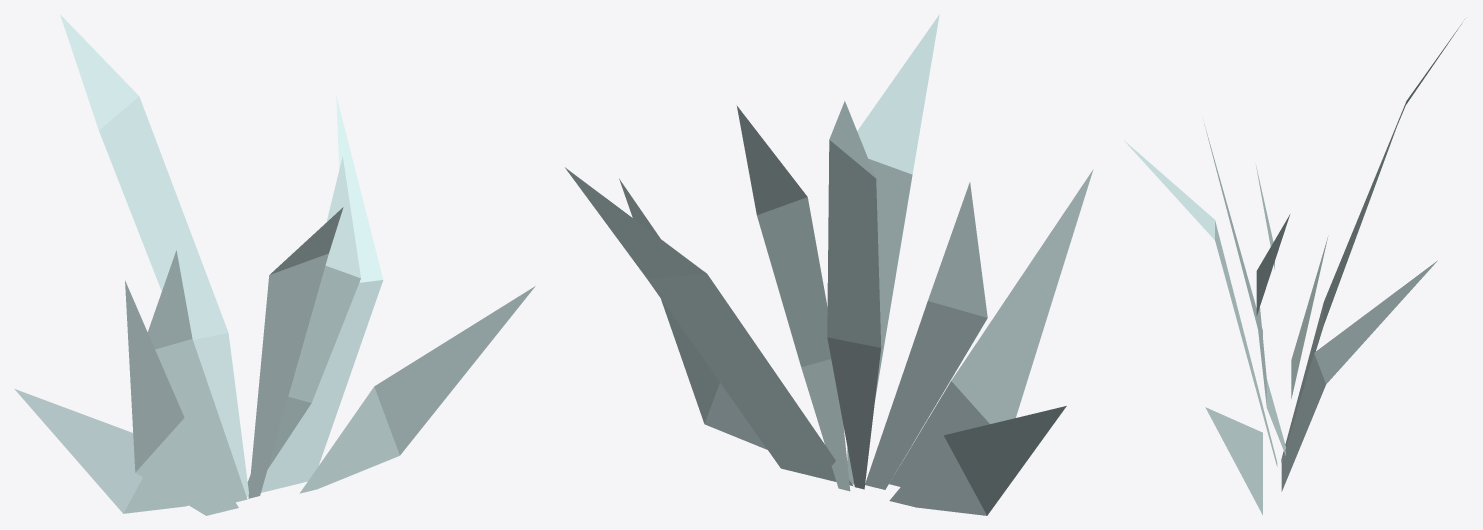
The model's file is grass-tall_white.glb.
3 views of the same model, side by side, from view 1: azimuth 30°, elevation 25°; view 2: azimuth 150°, elevation 25°; view 3: azimuth 270°, elevation 25° (orthographic). The views are drawn at different scales.
Parts seen in each view (by area): view 1: grass-tall_winter; view 2: grass-tall_winter; view 3: grass-tall_winter.
Part boxes in pixels (x1=…): grass-tall_winter: x1=14, y1=14, x2=535, y2=515; grass-tall_winter: x1=565, y1=14, x2=1093, y2=515; grass-tall_winter: x1=1124, y1=19, x2=1464, y2=514.
Size of the model in its own units: 1.25 by 1.13 by 0.8707.
1 material, 1 textured.
